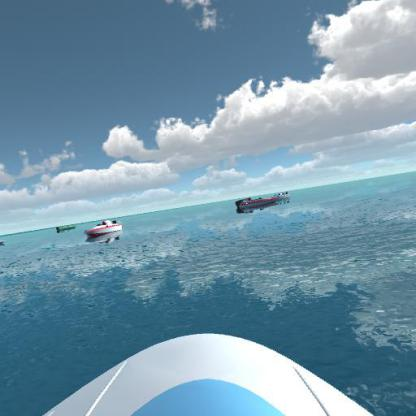usv0: (55, 222, 78, 233)
usv1: (266, 189, 295, 205)
usv3: (232, 195, 280, 215), (84, 219, 124, 240)
